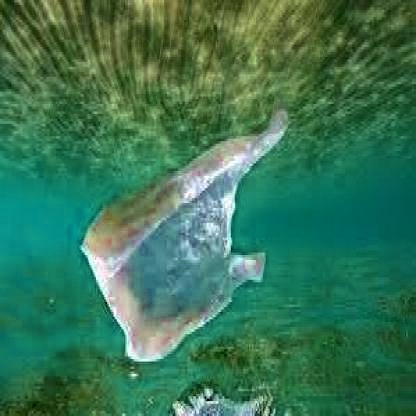pbag: (79, 104, 288, 366)
